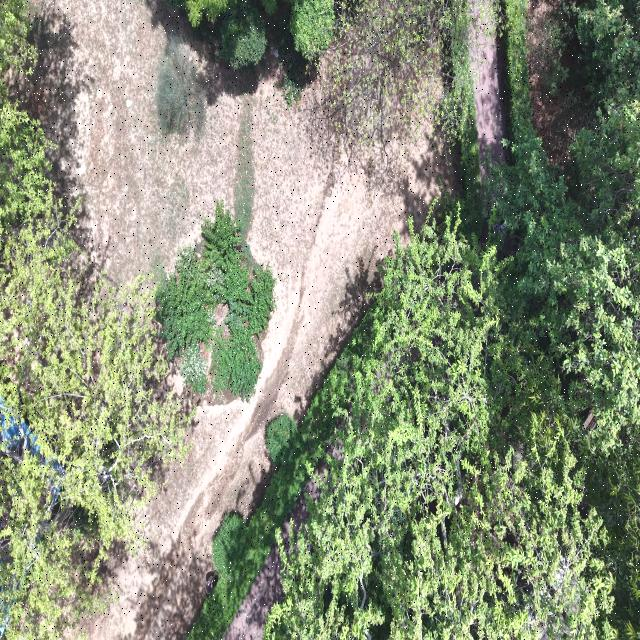DRY_AREA: (20, 0, 454, 639), (527, 0, 592, 166), (470, 0, 507, 180), (470, 1, 506, 178), (225, 543, 283, 639), (225, 543, 282, 639), (472, 33, 507, 178)
PATHWAYS: (470, 2, 506, 178)
VEGETATION_TREE: (189, 3, 638, 639), (203, 0, 639, 639), (266, 1, 639, 639), (265, 209, 612, 639), (0, 83, 187, 639), (0, 111, 185, 637), (493, 2, 639, 636), (0, 100, 184, 552), (0, 206, 186, 639), (0, 218, 186, 553), (170, 0, 474, 157), (189, 371, 340, 639), (188, 394, 329, 639), (320, 0, 473, 156), (157, 205, 274, 400), (0, 450, 109, 639), (523, 0, 637, 166), (167, 0, 334, 105), (527, 0, 601, 164), (449, 2, 494, 233), (212, 253, 274, 400), (158, 248, 217, 392), (157, 35, 204, 141), (503, 0, 534, 145), (274, 13, 317, 106), (212, 512, 252, 591), (220, 0, 266, 68), (234, 109, 255, 254), (0, 0, 36, 72), (290, 0, 334, 58), (212, 512, 247, 580), (166, 0, 258, 25), (266, 414, 297, 464), (180, 342, 208, 392), (277, 63, 306, 107), (184, 0, 228, 25), (261, 0, 276, 13)
